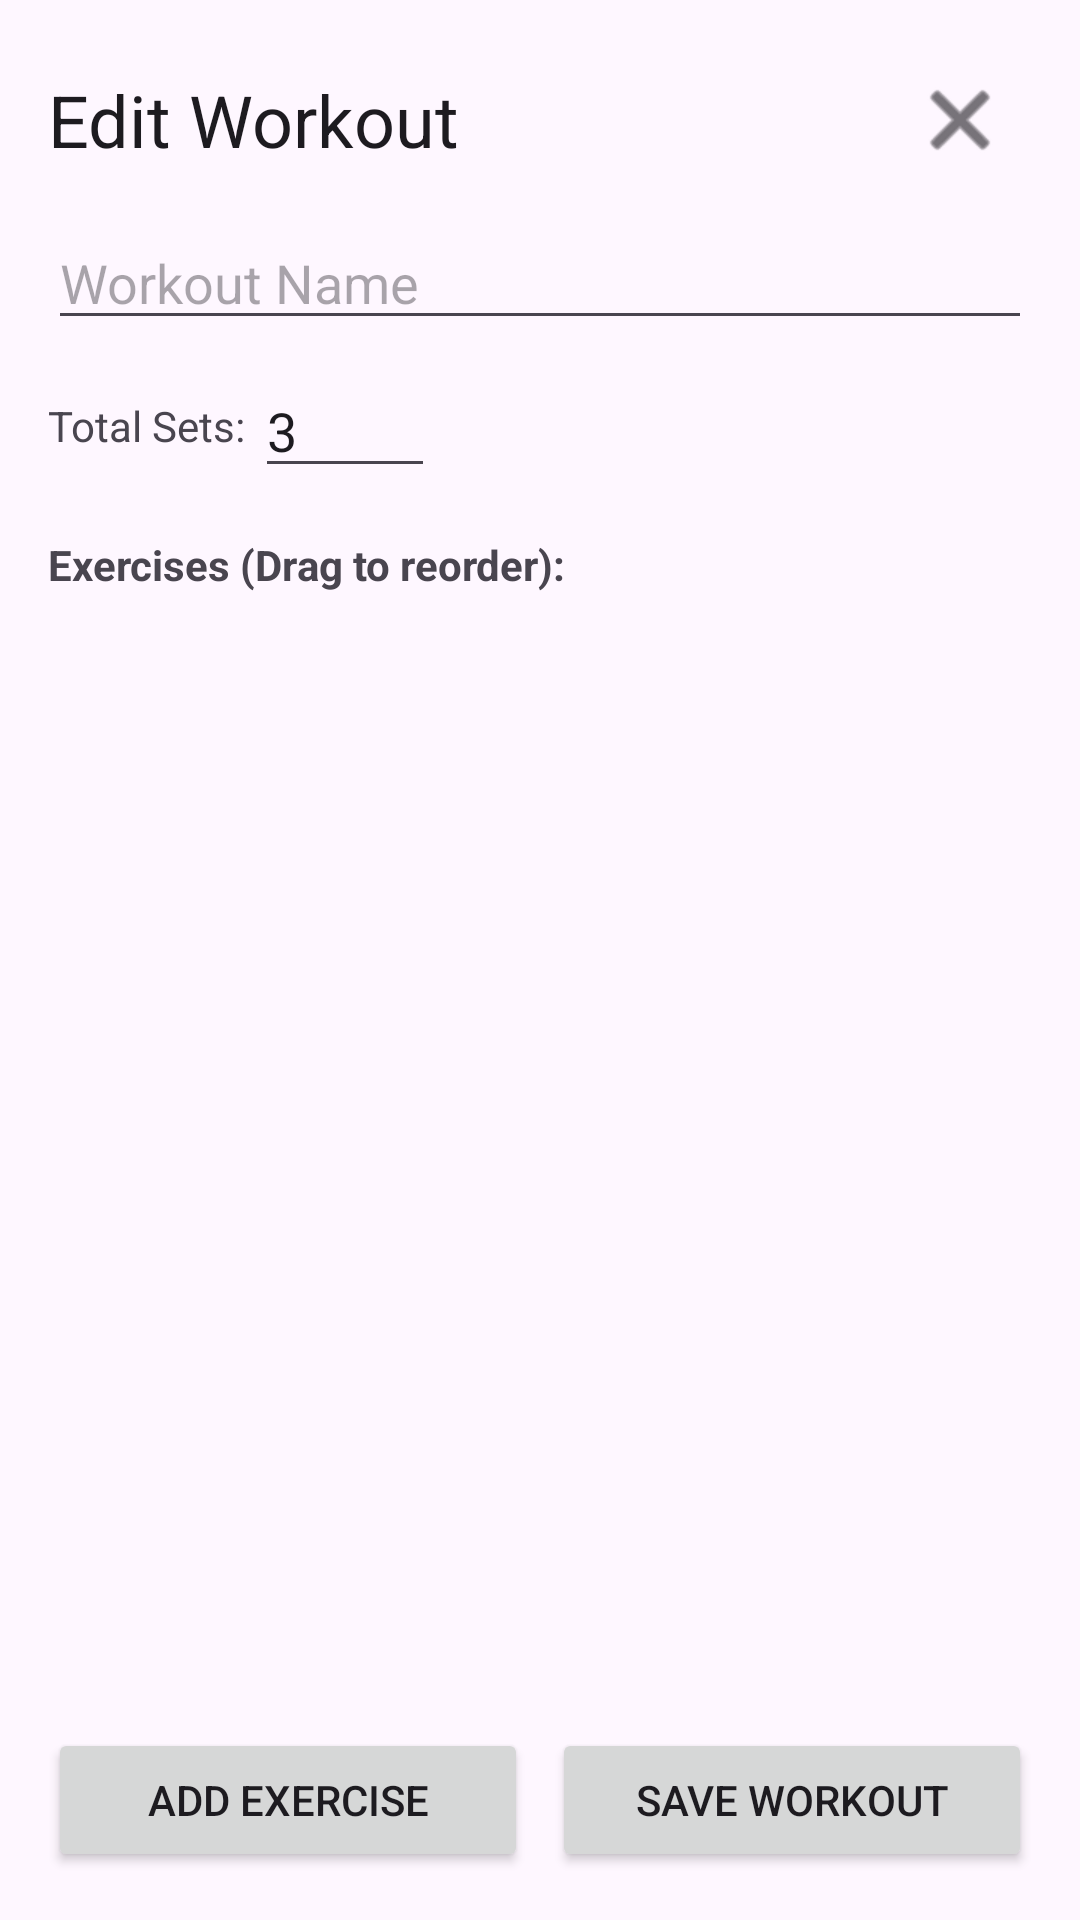

Locate icon controls on the screen. Image size 1080×1920, boxes as (x1, y1, x2, y2).
Cancel: (930, 90, 990, 150)
